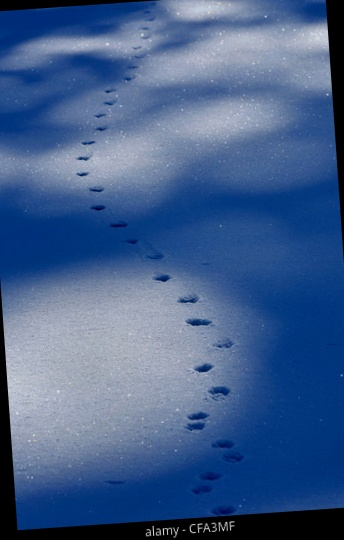fox: (161, 355, 257, 476)
